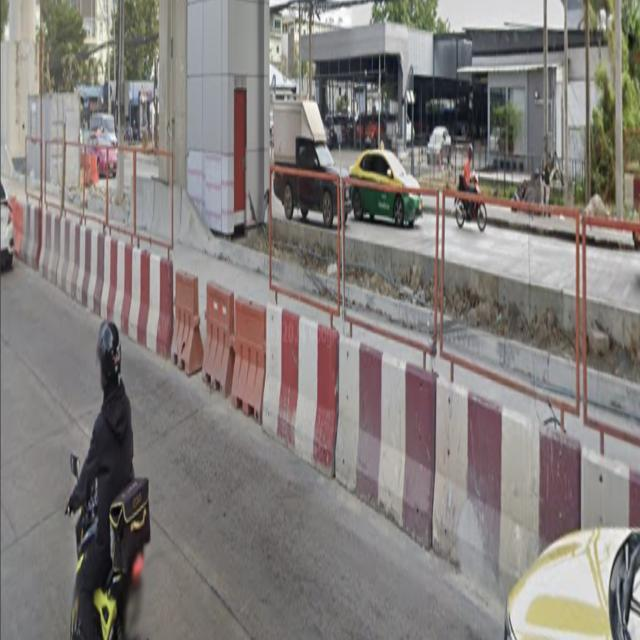fallen_object: (400, 363, 640, 613), (223, 293, 440, 549), (143, 249, 277, 427), (2, 189, 155, 344)
